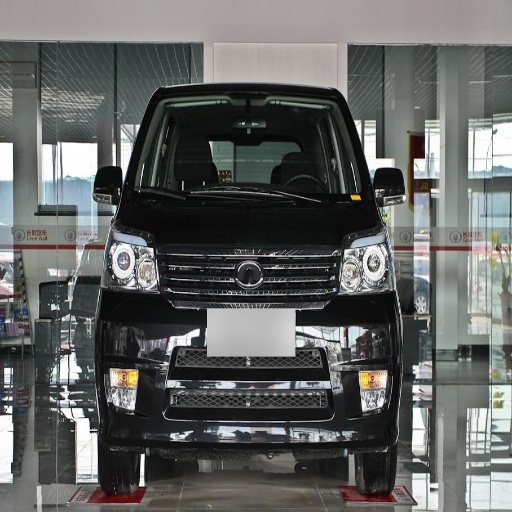front_bumper: (100, 242, 393, 453)
front_right_light: (107, 234, 161, 291)
hood: (117, 189, 383, 265)
left_mirror: (374, 166, 405, 208)
